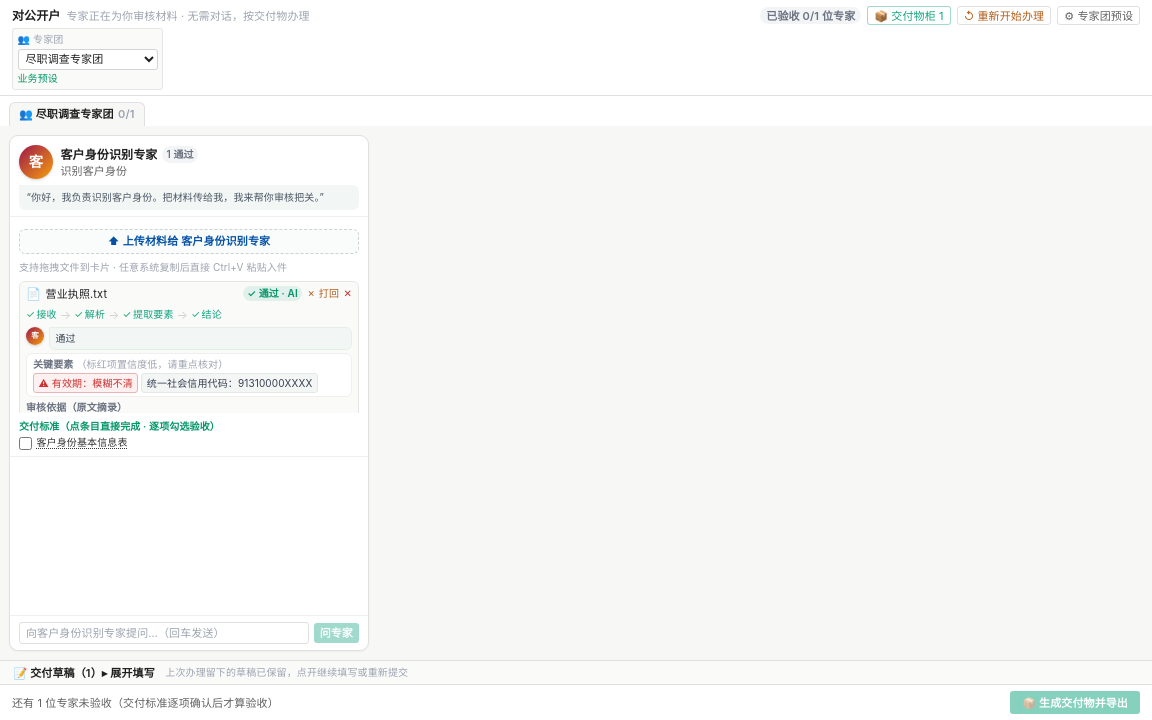
it: 交付草稿表单（BUGFIX #78） › 必填未完成时提交按钮禁用，填写后可提交并自动入审核
The image size is (1152, 720).
Click the button "📝 交付草稿（1）▸ 展开填写": (84, 672) [9,664,159,681]
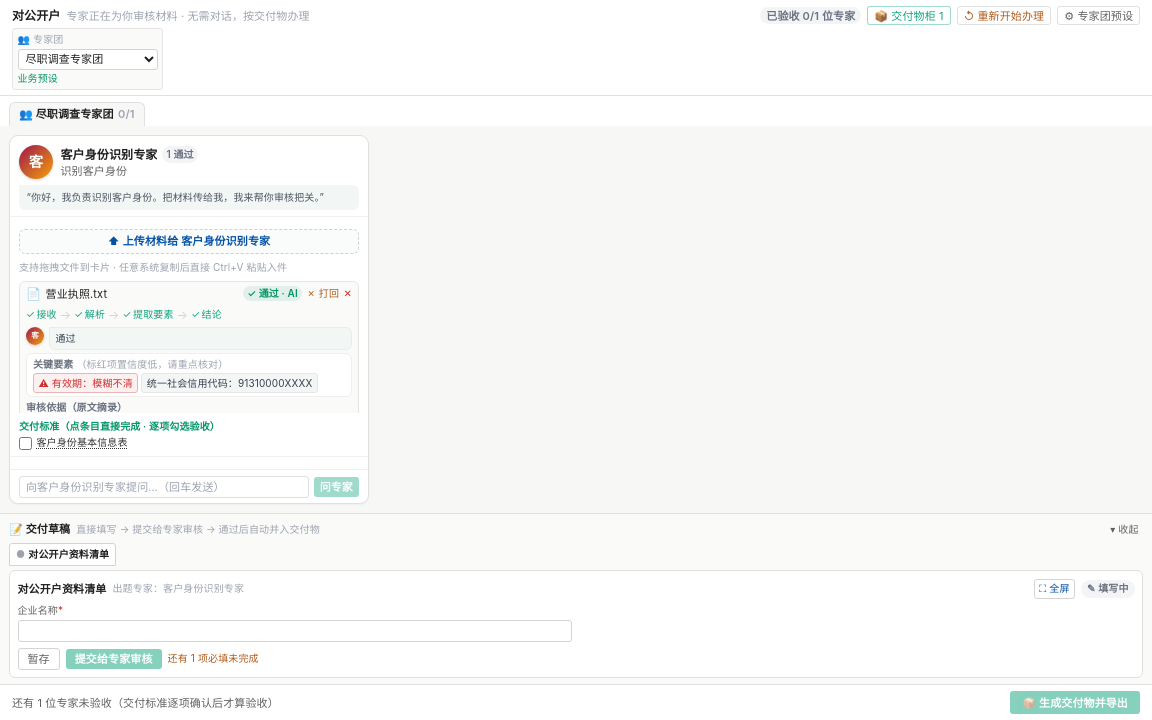
Expected: the button "提交给专家审核" is disabled, [66,648,162,668]
In the 2nd field: (294, 630) [18,620,572,642], type "某某贸易有限公司"
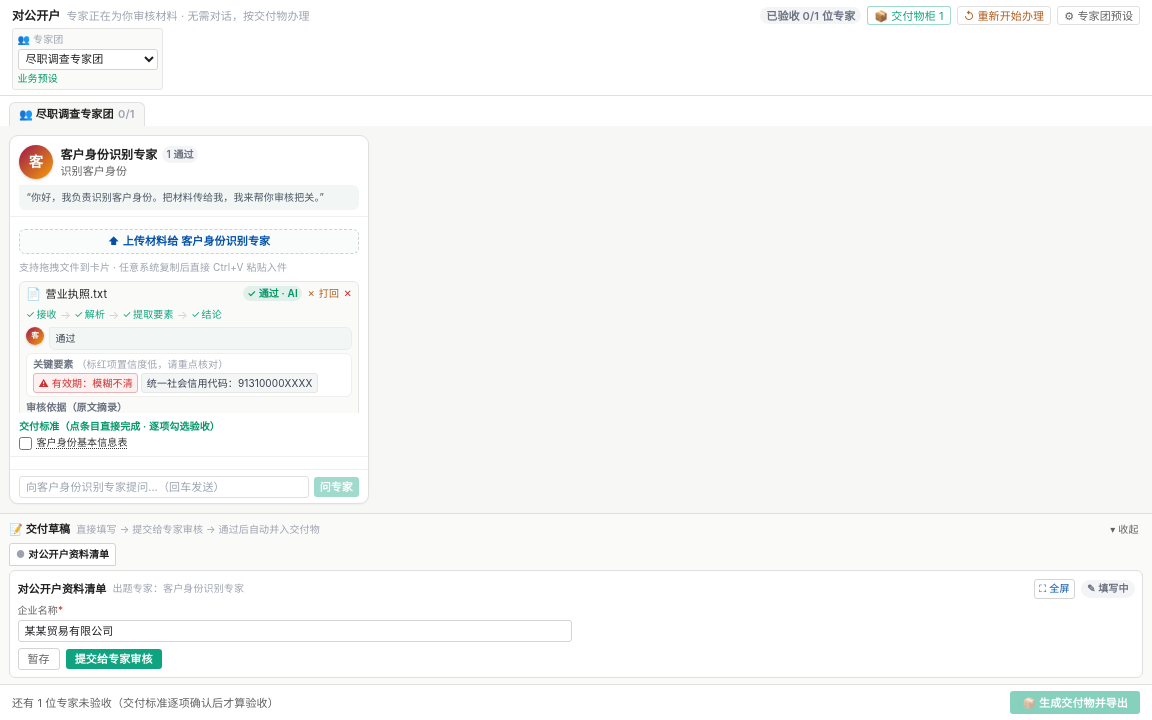
Expected: the button "提交给专家审核" is enabled
Click the button "提交给专家审核": (114, 658) [66,648,162,668]
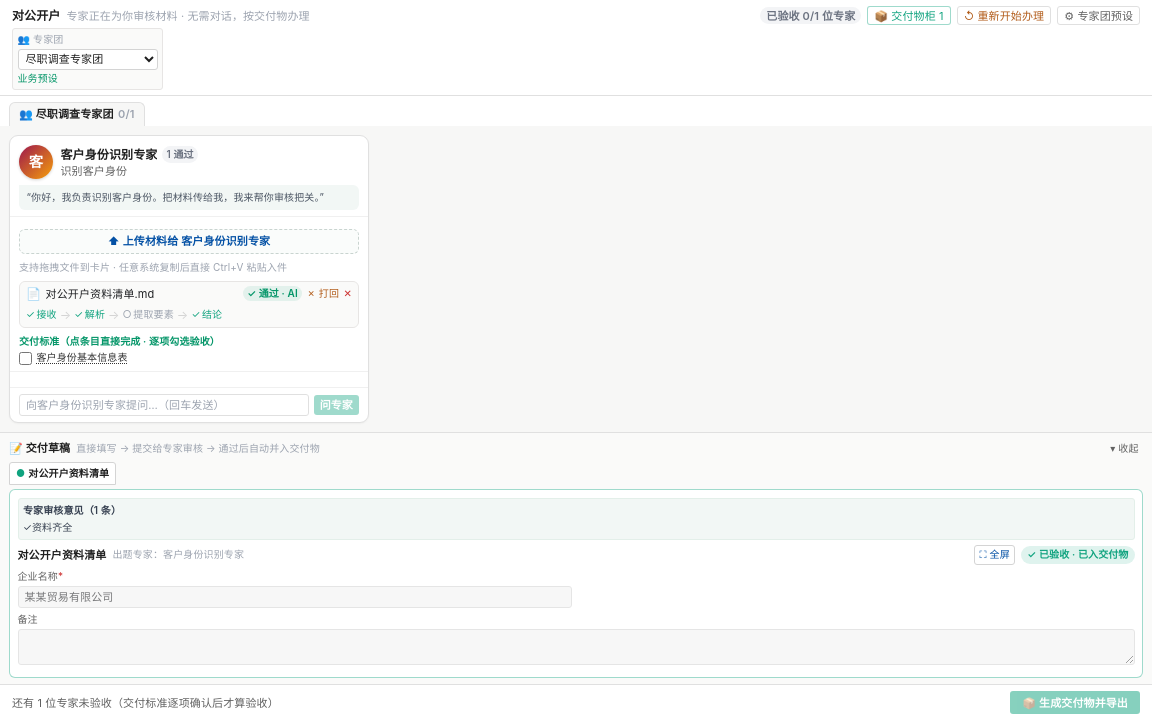
Expected: the text "✓ 已验收 · 已入交付物" is shown, [1021,546,1134,564]
